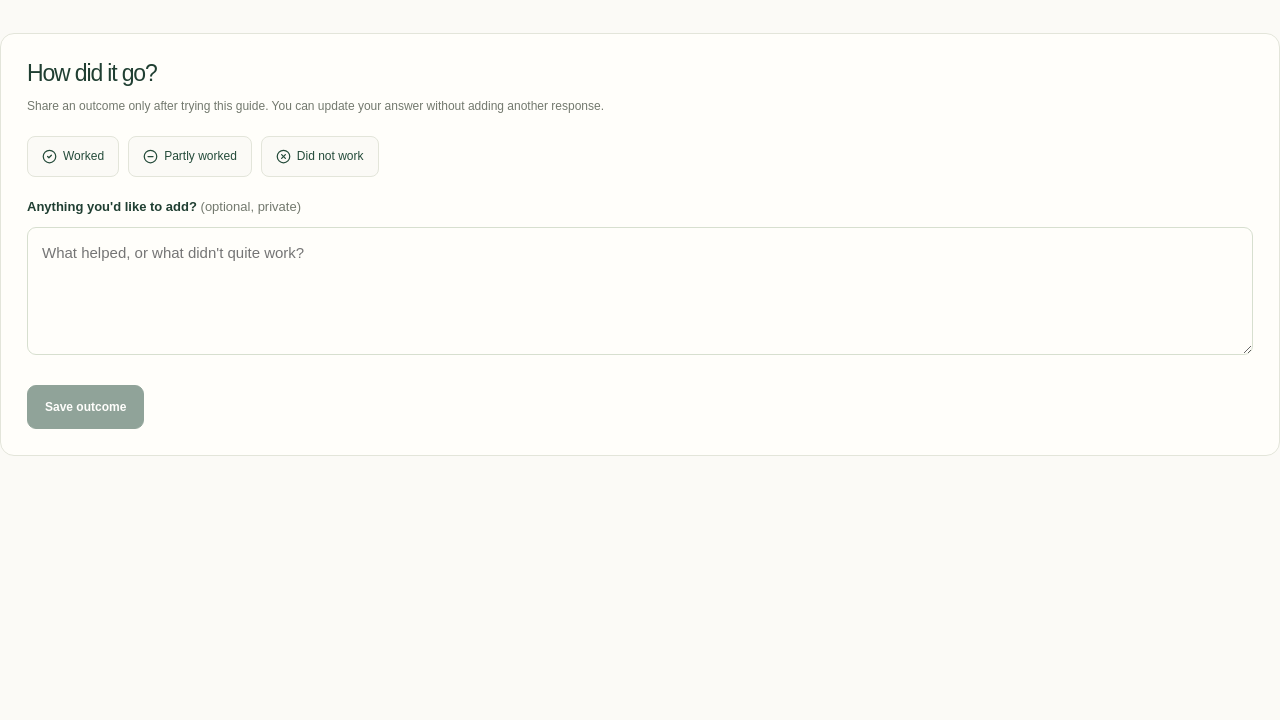
Test: version-linked feedback › shows a server failure without claiming feedback was saved
Click the button "Did not work" at [320, 156], box [261,136,378,177]
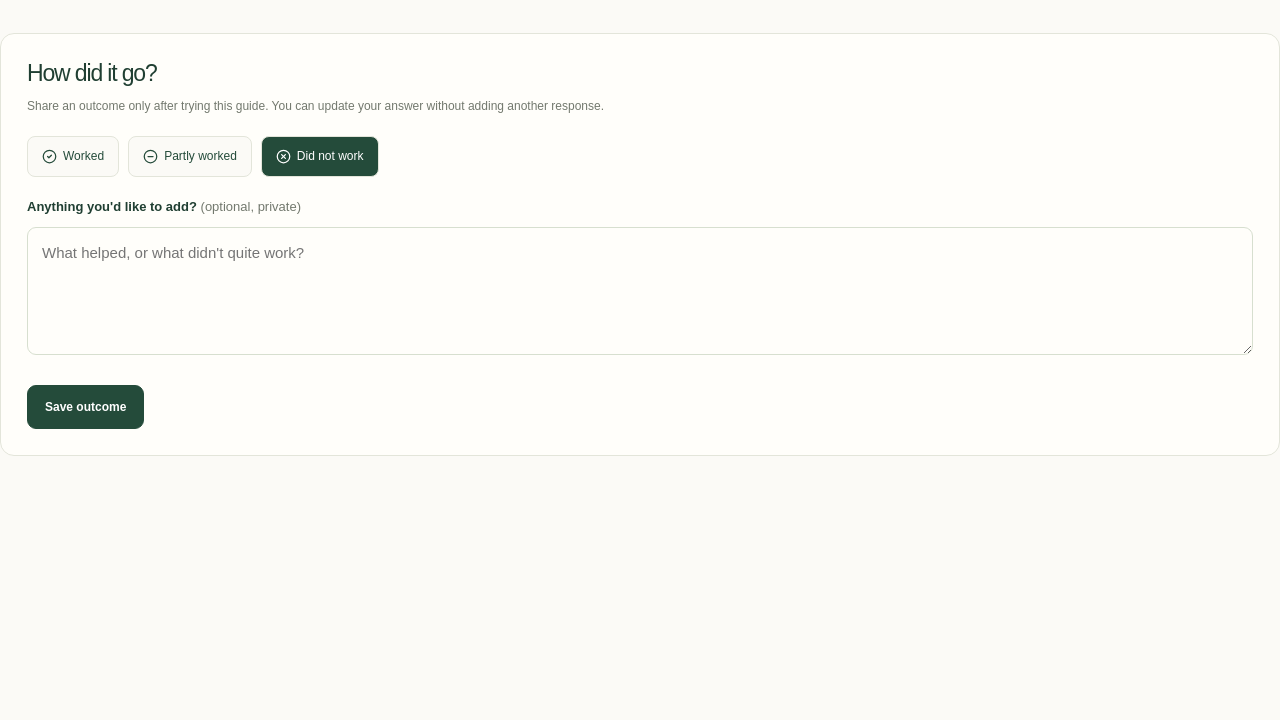
Click the button "Save outcome" at [86, 407], box [27,385,144,429]
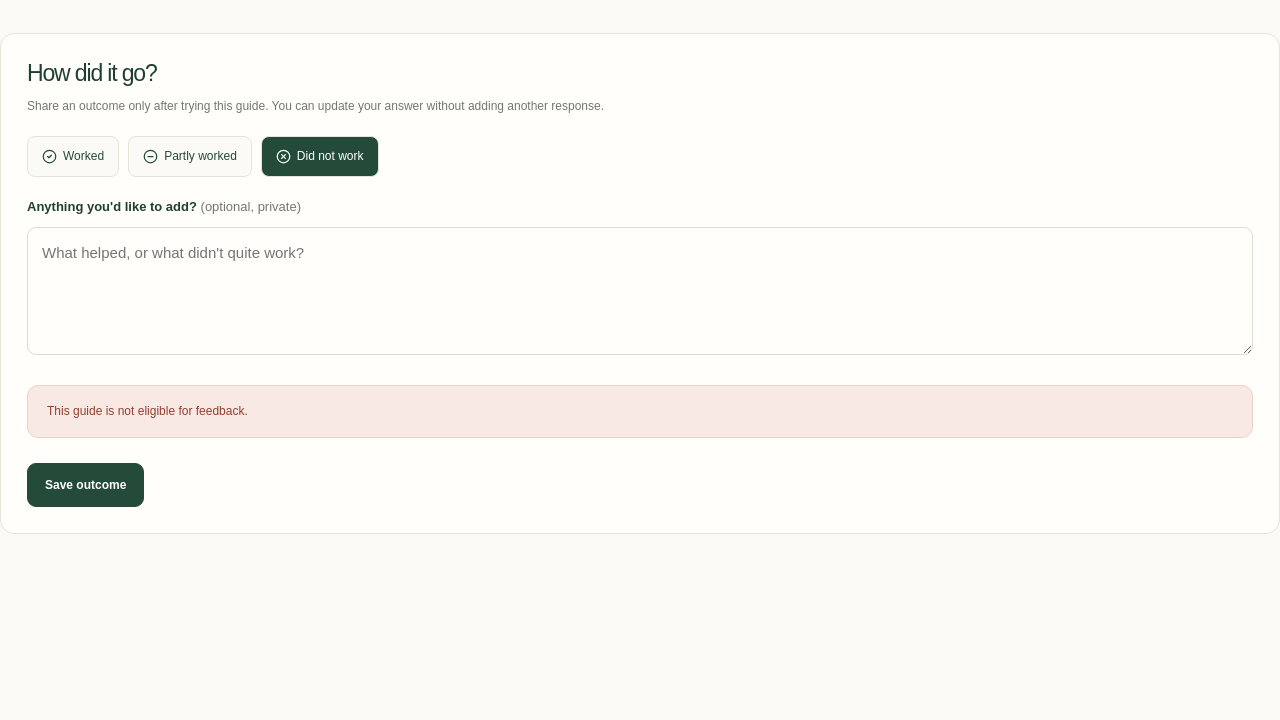
Now the message shows "not eligible", box [47,404,248,418]
